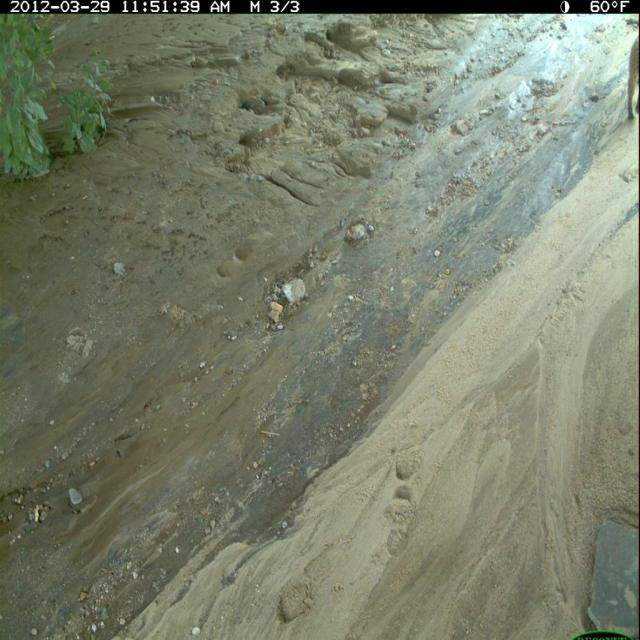bobcat: (621, 26, 640, 129)
